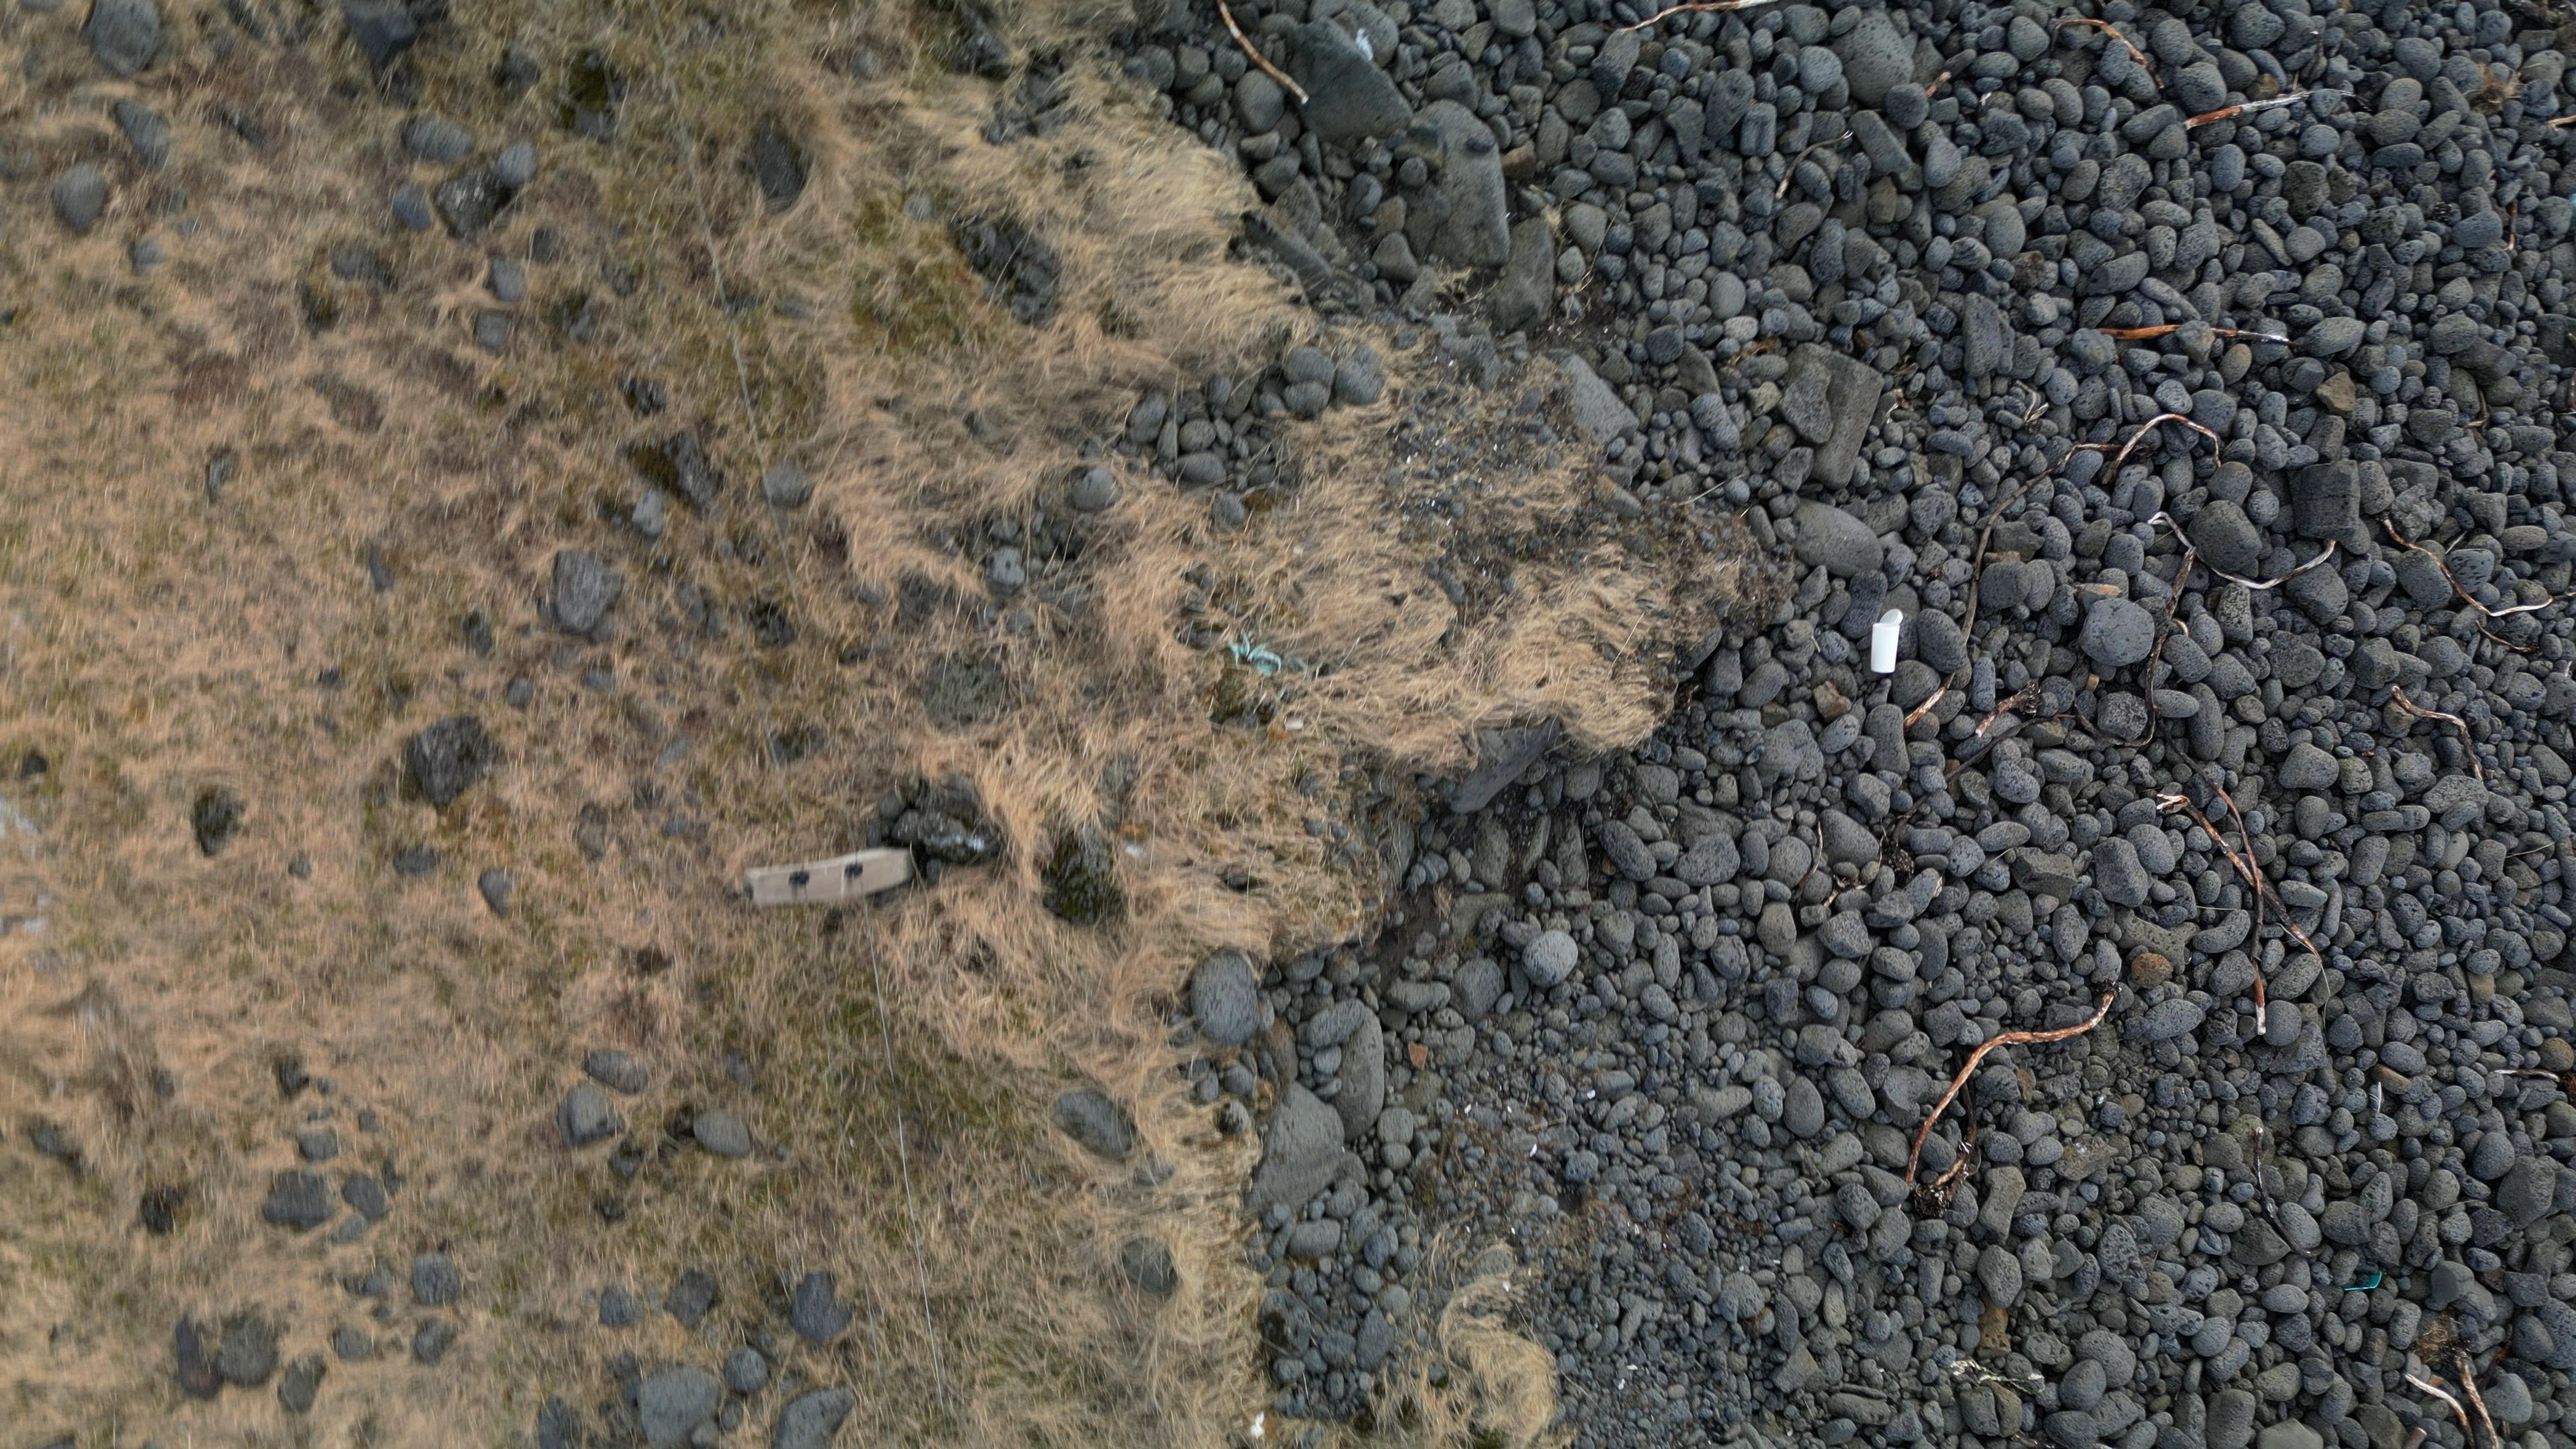trash: (1866, 609, 1902, 674)
